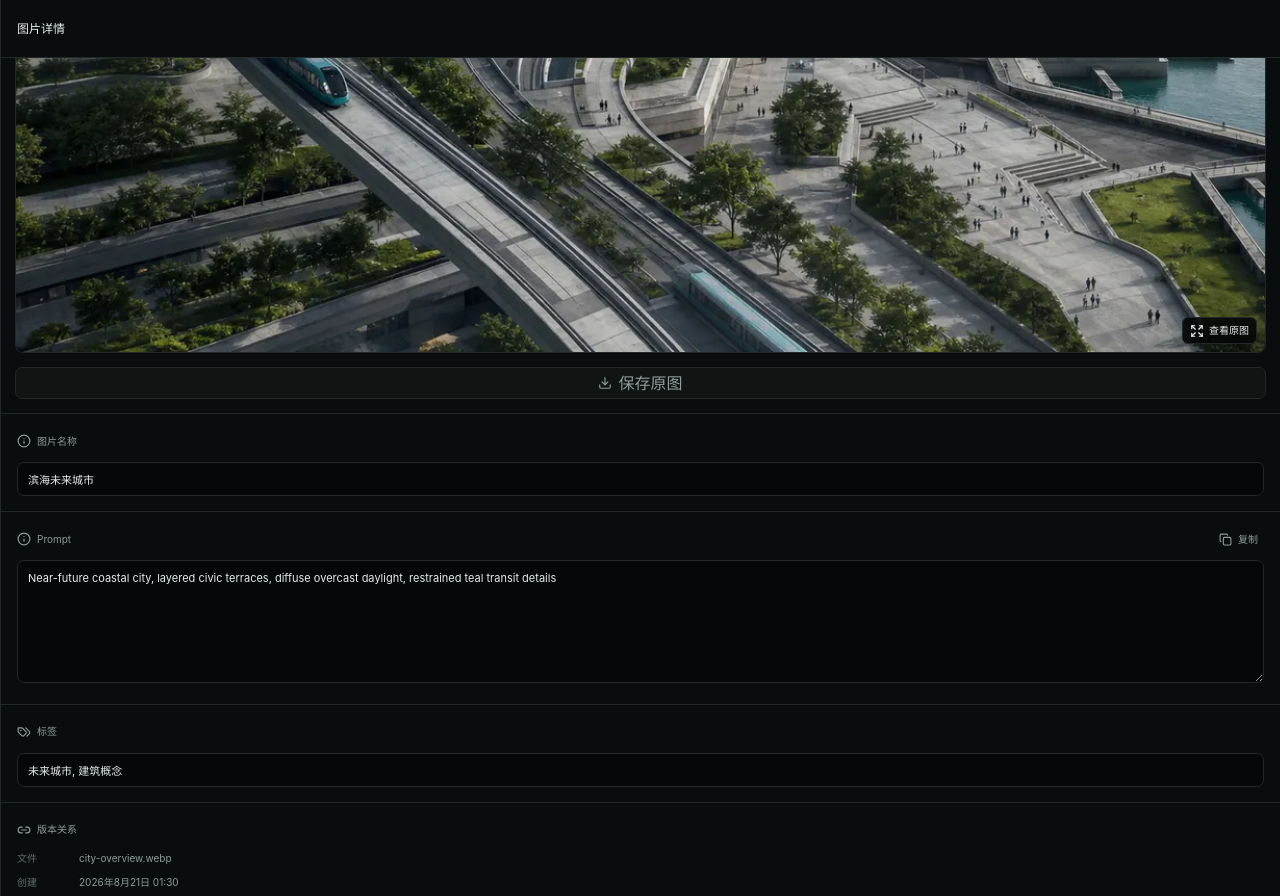
ImageInspector › shows a conflict message without discarding the typed image name
(page scrolled)
Replace the text in the field named "图片名称" with "喜羊羊" at [640, 479], box top-left (17, 462), bottom-right (1264, 496)
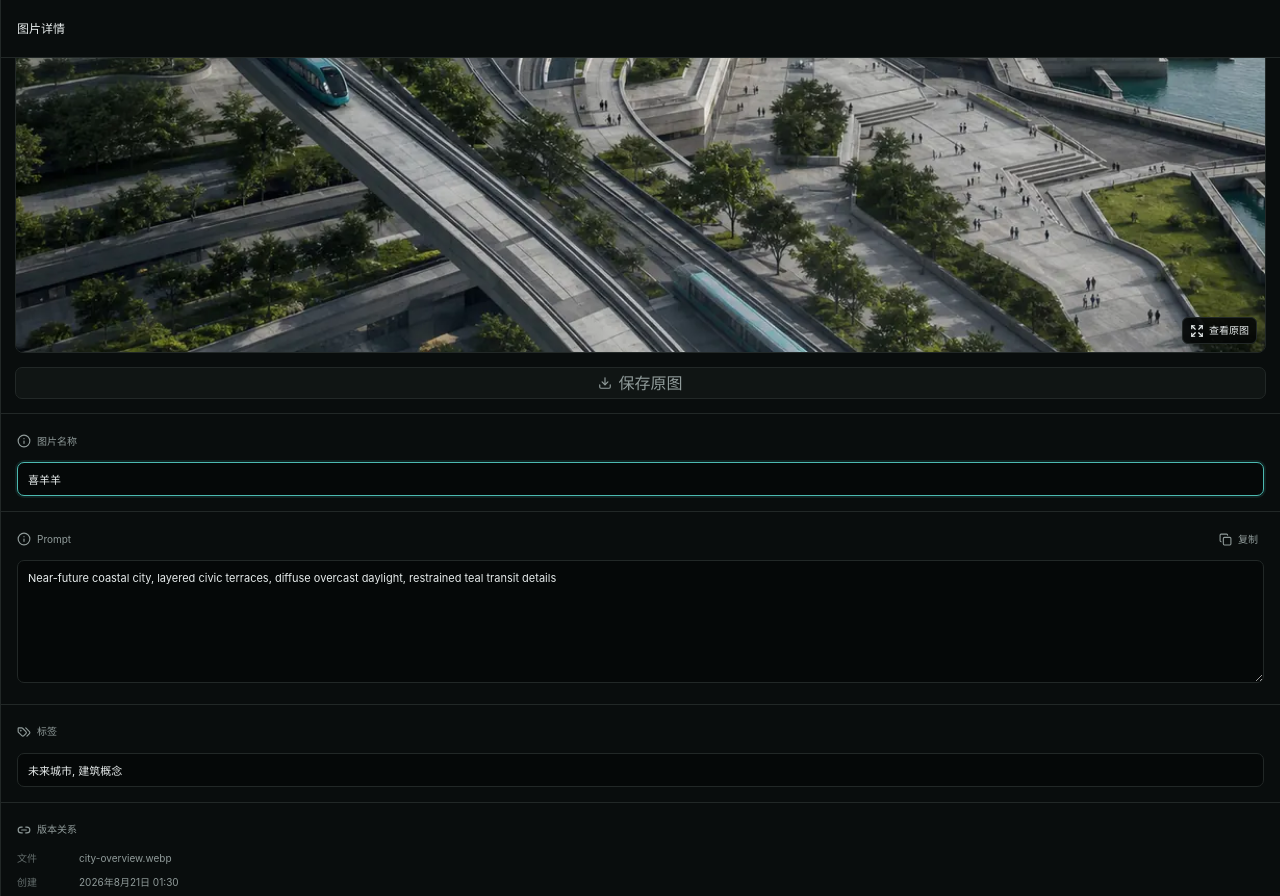
Press Tab
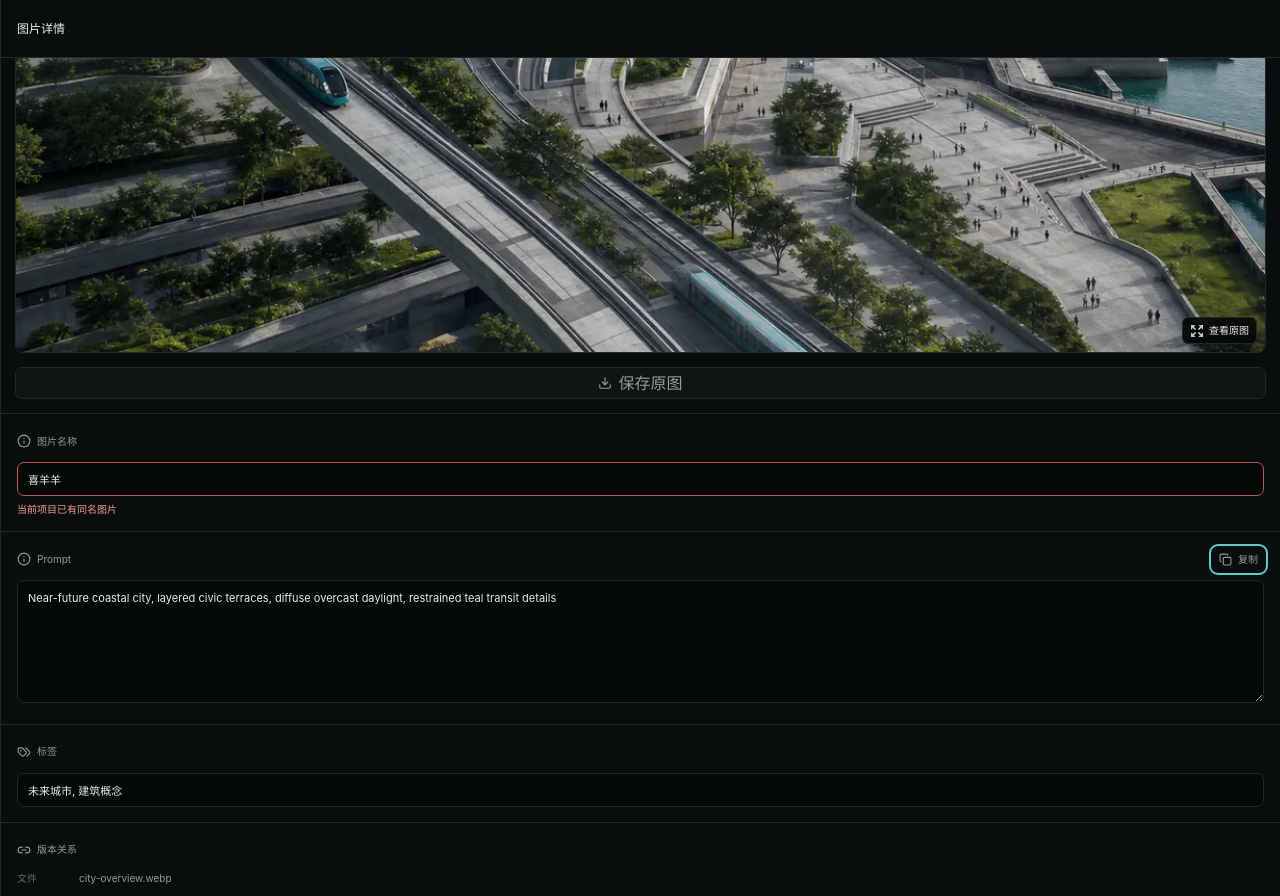
Now the message reads "当前项目已有同名图片", box top-left (17, 503), bottom-right (117, 515)
